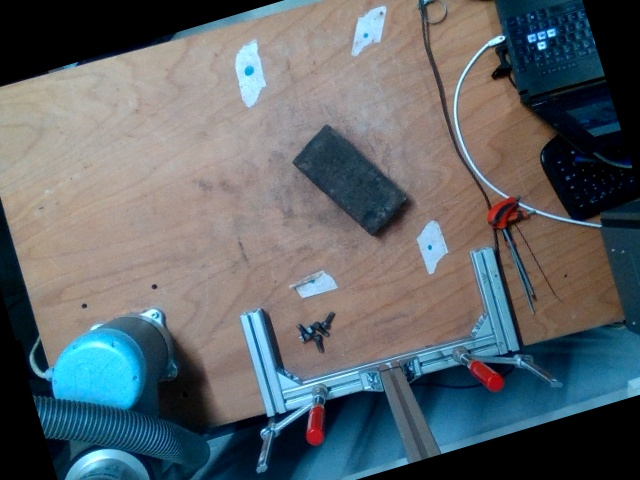brick: (292, 126, 408, 236)
